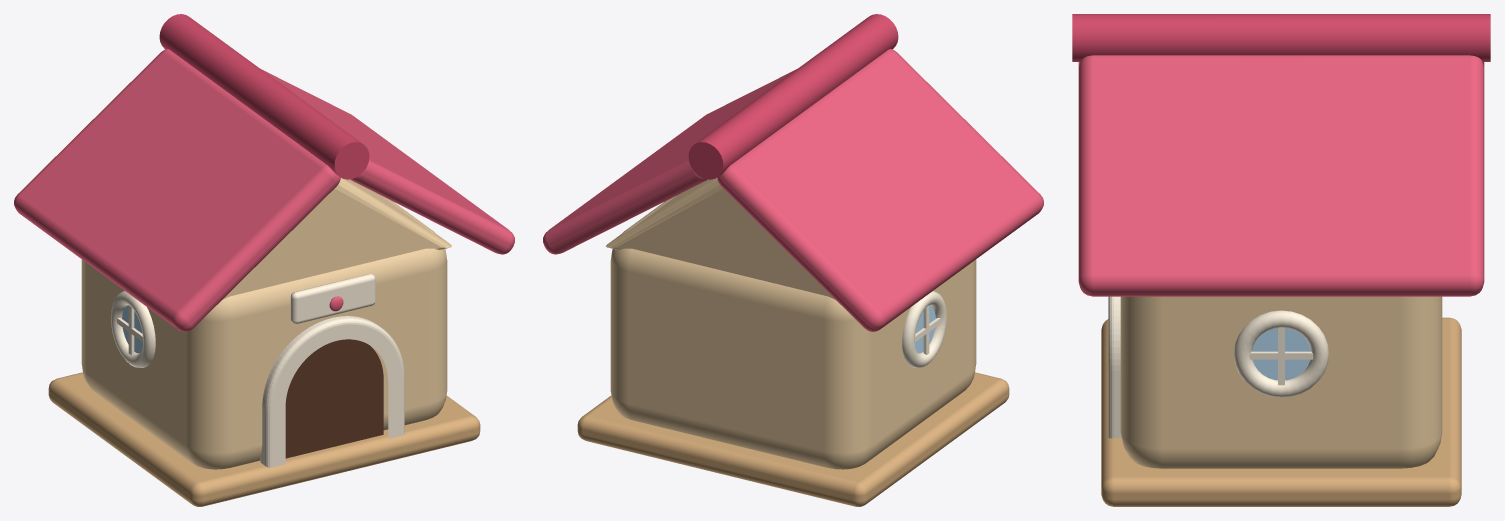
File: cathouse.glb
3 views of the same model, side by side, from view 1: azimuth 30°, elevation 25°; view 2: azimuth 150°, elevation 25°; view 3: azimuth 270°, elevation 25° (orthographic). The views are drawn at different scales.
Size of the model in its own units: 1.46 by 1.41 by 1.3.
